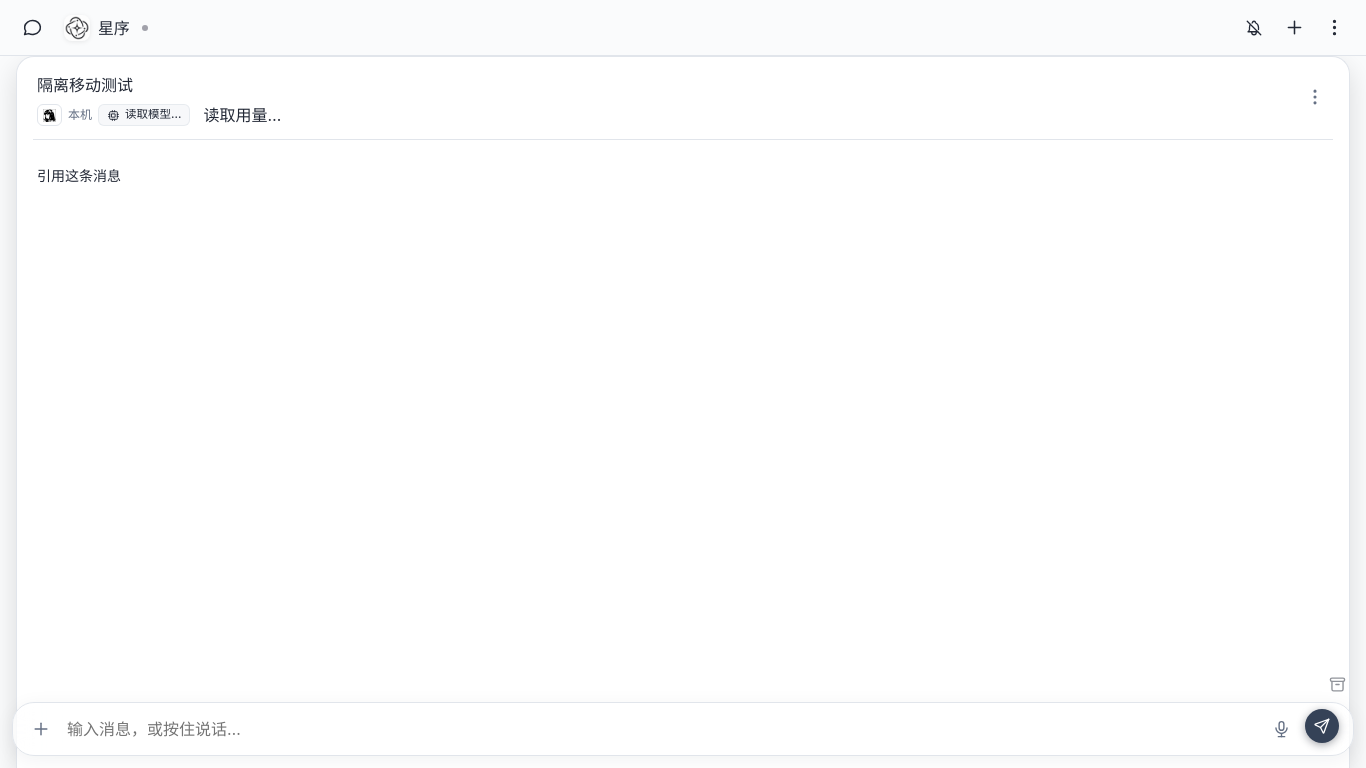
Test: independent mobile composer › opens an anchored message menu, not a sheet, and quotes into the composer
Right-click the element showing "引用这条消息" at (79, 176), box [37,167,121,184]
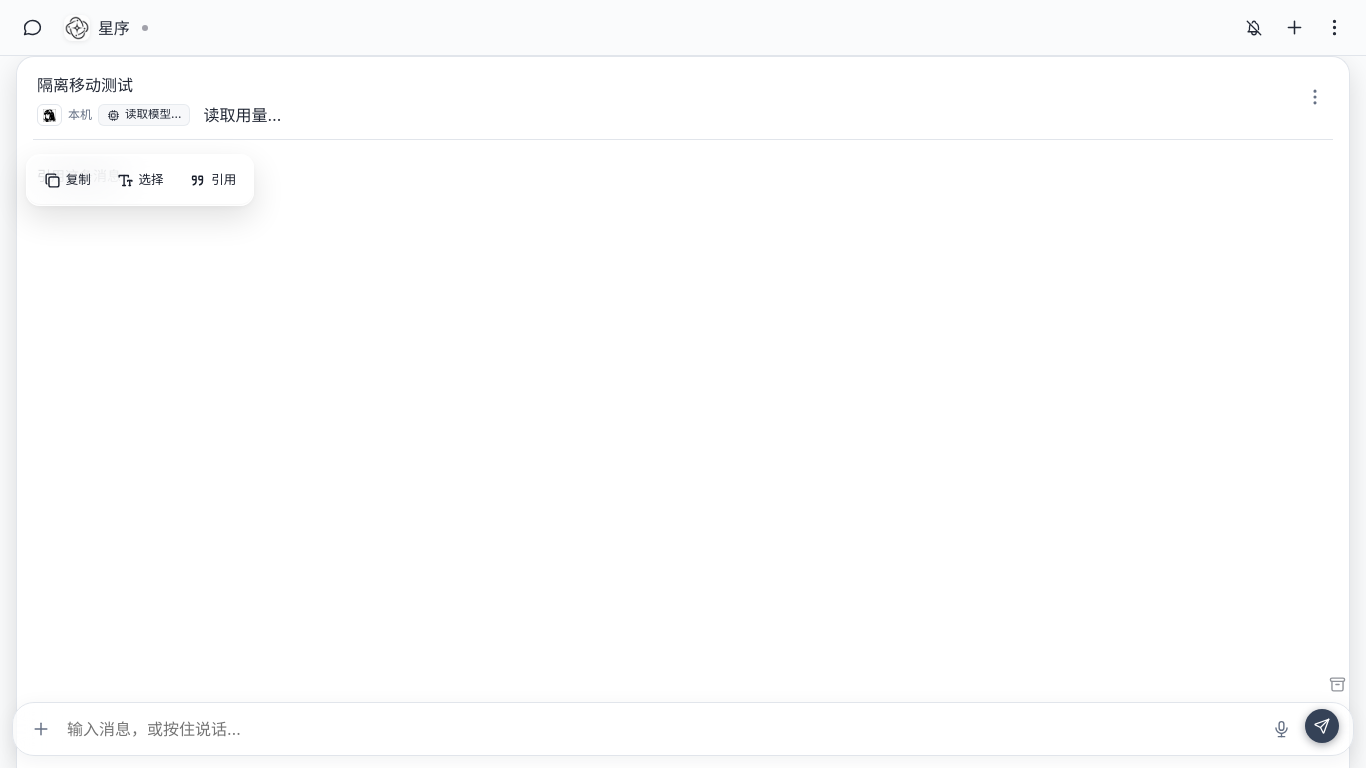
Check: the menu named "消息操作" is shown, box [26,154,254,206]
Click the menu item "引用" at (213, 180), box [176,159,249,201]
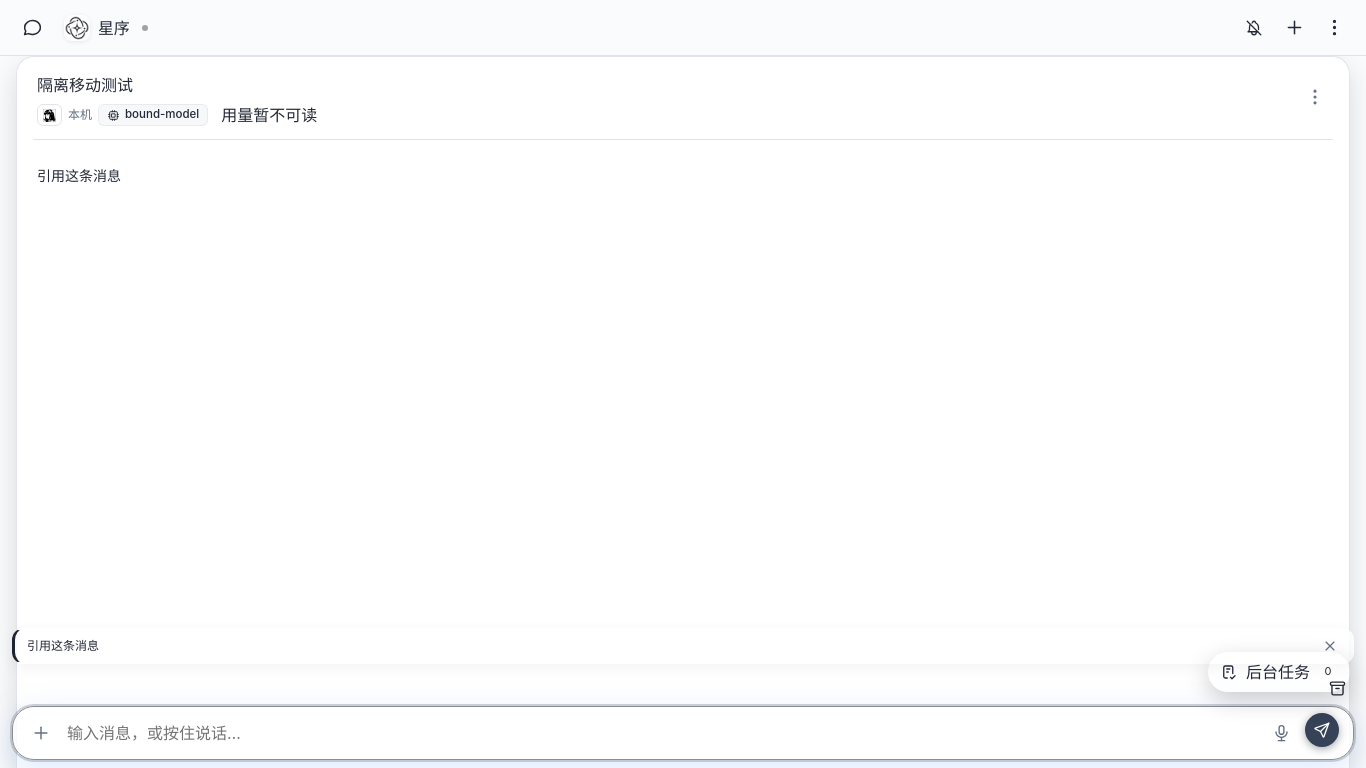
Check: the 2nd element showing "引用这条消息" is shown, box [12,628,1354,664]
Check: the menu is gone
